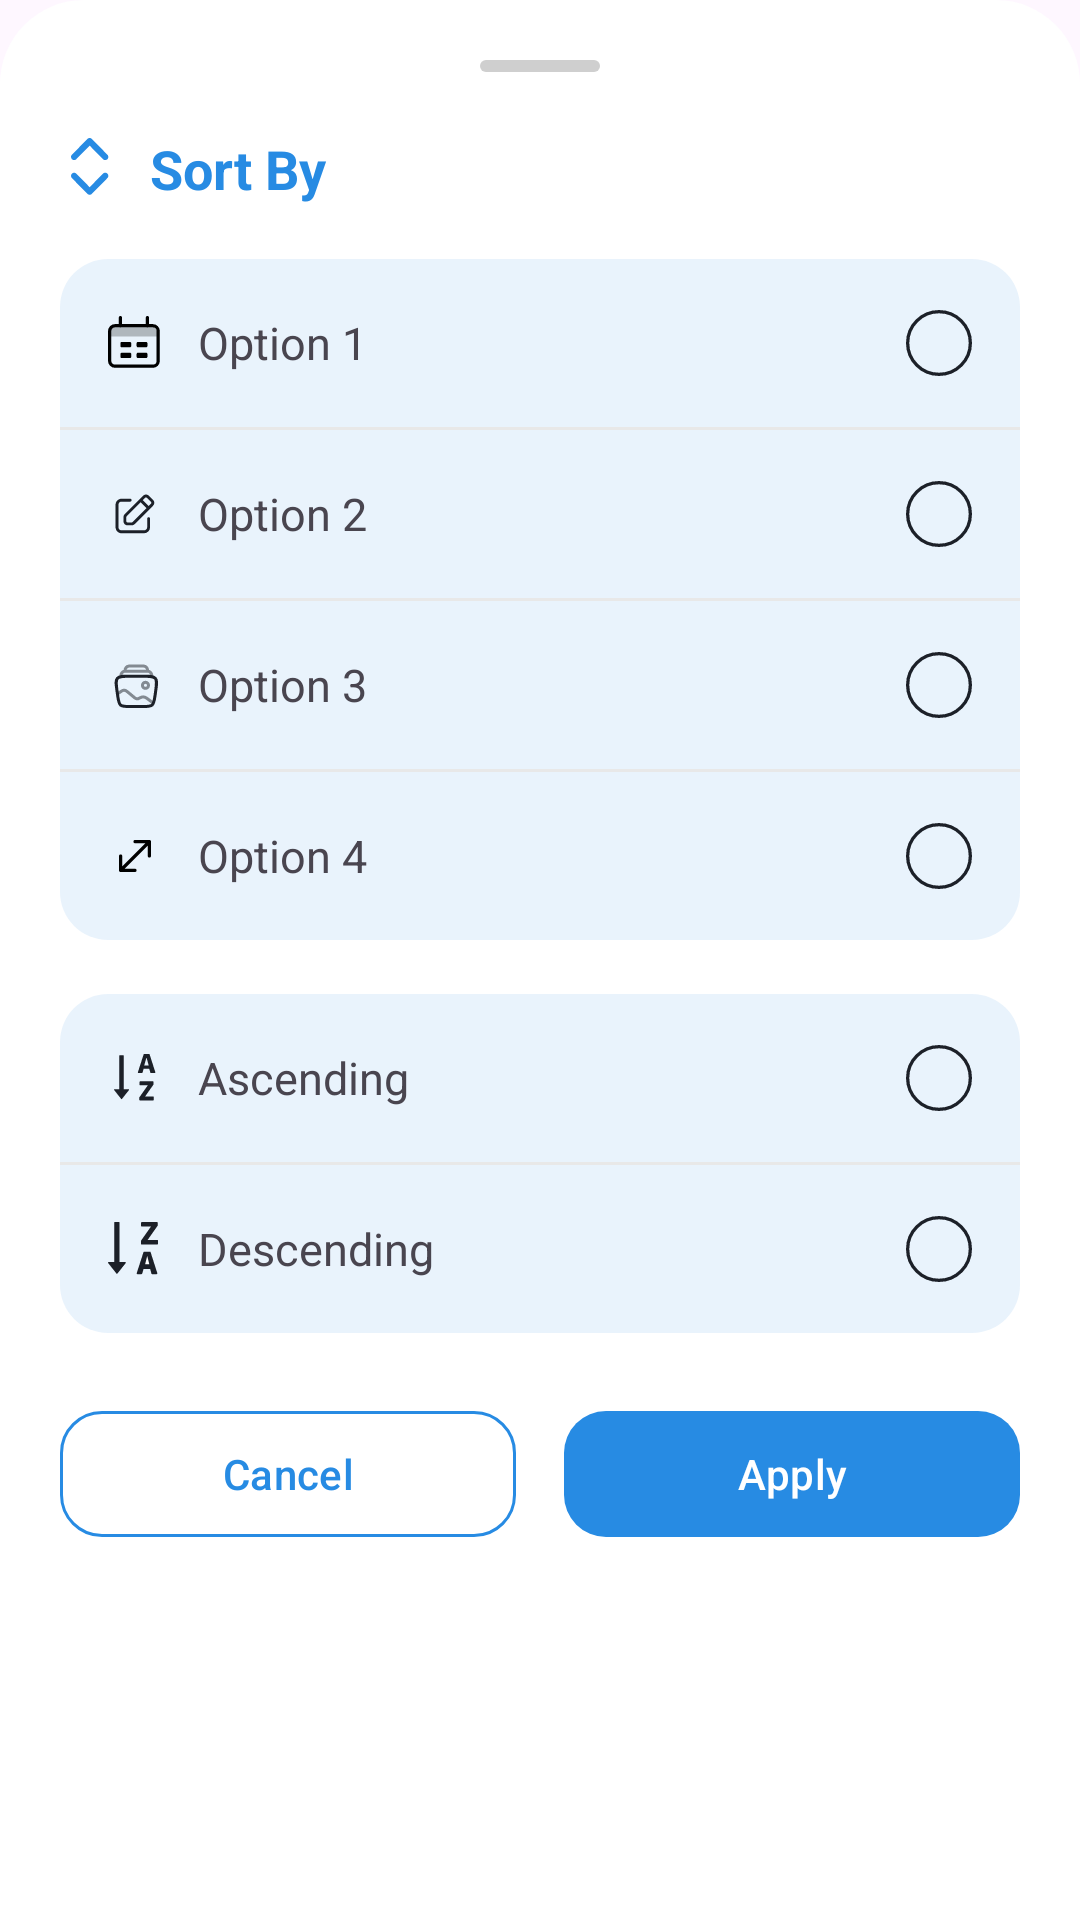

Point at icon controls on the screen. Image size 1080w x 1920h, points as (x=x, y=y).
album: (x=136, y=686)
asending: (x=135, y=1077)
calendar: (x=134, y=342)
edit: (x=135, y=514)
size: (x=135, y=856)
